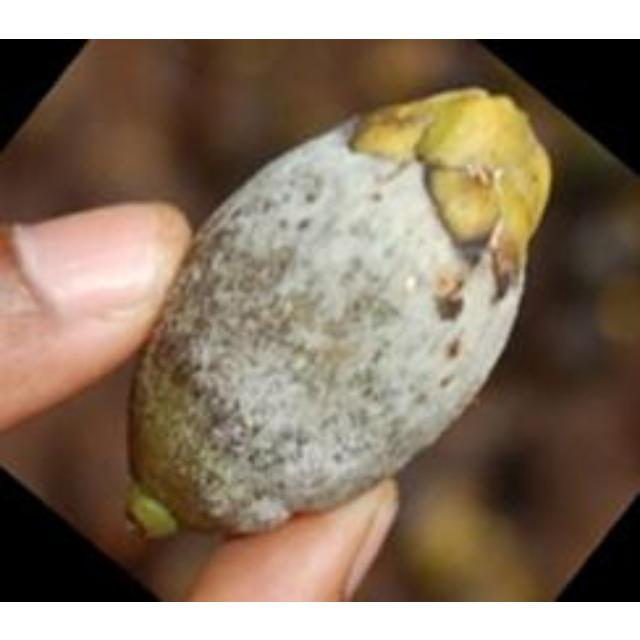damaged: (126, 88, 556, 539)
